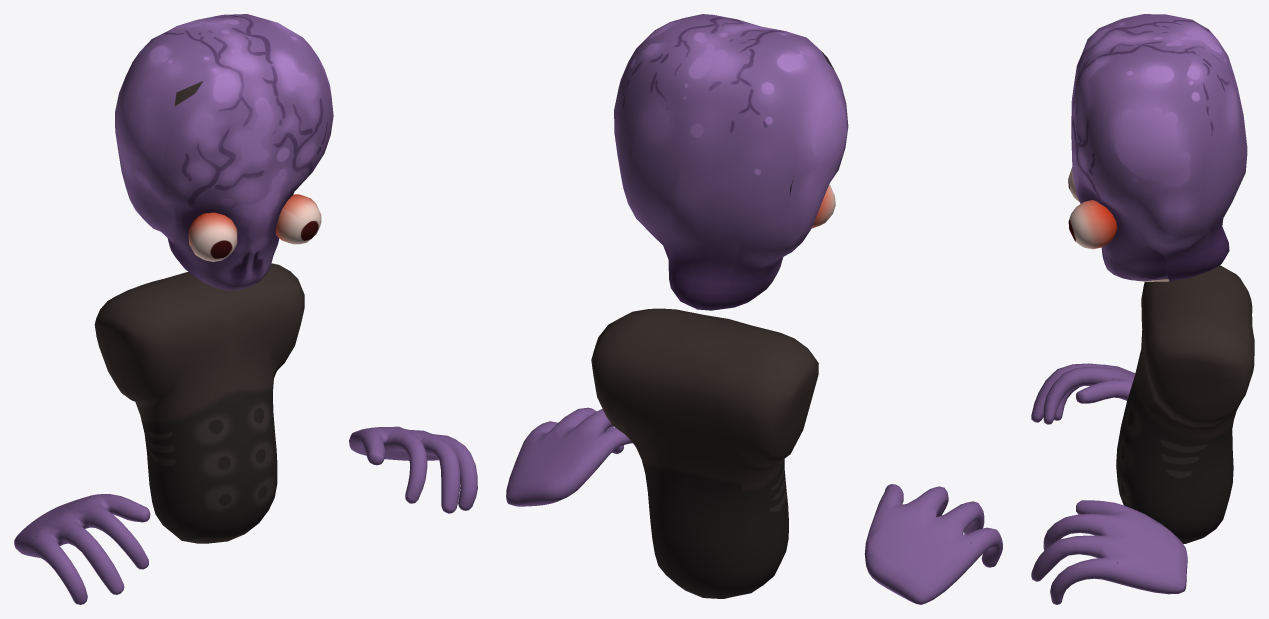
Rendered from UT_Character001-2.fbx.
3 views of the same model, side by side, from view 1: azimuth 30°, elevation 25°; view 2: azimuth 150°, elevation 25°; view 3: azimuth 270°, elevation 25° (orthographic). The views are drawn at different scales.
Visible parts, largest first — view 1: Head_Low1, Body_Low, RightHand_Low, LeftHand_Low; view 2: Head_Low1, Body_Low, RightHand_Low, LeftHand_Low; view 3: Head_Low1, Body_Low, LeftHand_Low, RightHand_Low.
Boxes of the visible parts, bbox=[...] form: Head_Low1: bbox=[115, 14, 333, 290]; Body_Low: bbox=[94, 263, 304, 543]; RightHand_Low: bbox=[14, 494, 150, 604]; LeftHand_Low: bbox=[349, 426, 477, 513]; Head_Low1: bbox=[614, 14, 848, 310]; Body_Low: bbox=[591, 308, 818, 598]; RightHand_Low: bbox=[864, 484, 1002, 604]; LeftHand_Low: bbox=[506, 407, 635, 506]; Head_Low1: bbox=[1068, 14, 1247, 281]; Body_Low: bbox=[1116, 265, 1254, 543]; LeftHand_Low: bbox=[1031, 500, 1187, 604]; RightHand_Low: bbox=[1031, 363, 1135, 424].
Bounding box in the file's own units: 2.17 × 2.5 × 1.01.
